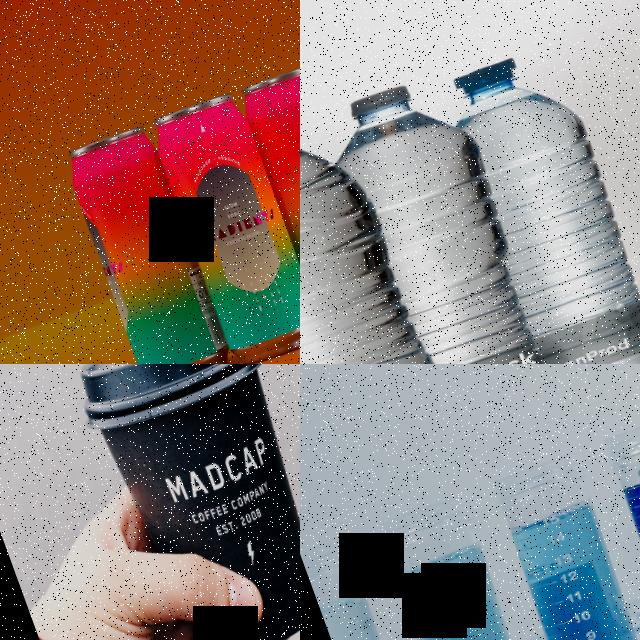bottle: (314, 65, 582, 364), (438, 36, 640, 364), (300, 90, 485, 364)
can: (146, 90, 300, 364), (60, 124, 234, 364), (237, 60, 300, 333)
cup: (63, 364, 300, 640)
